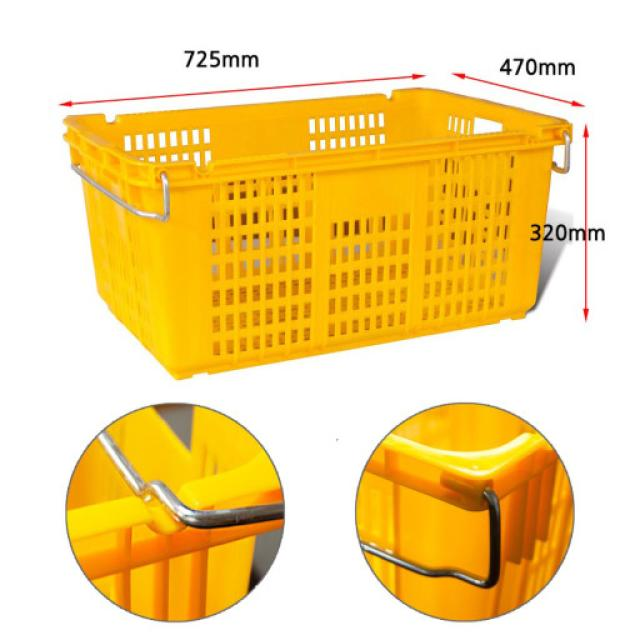basket: (61, 26, 606, 392)
